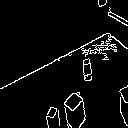cube: (63, 90, 91, 128), (115, 80, 128, 128), (42, 102, 63, 128), (81, 58, 98, 82)
